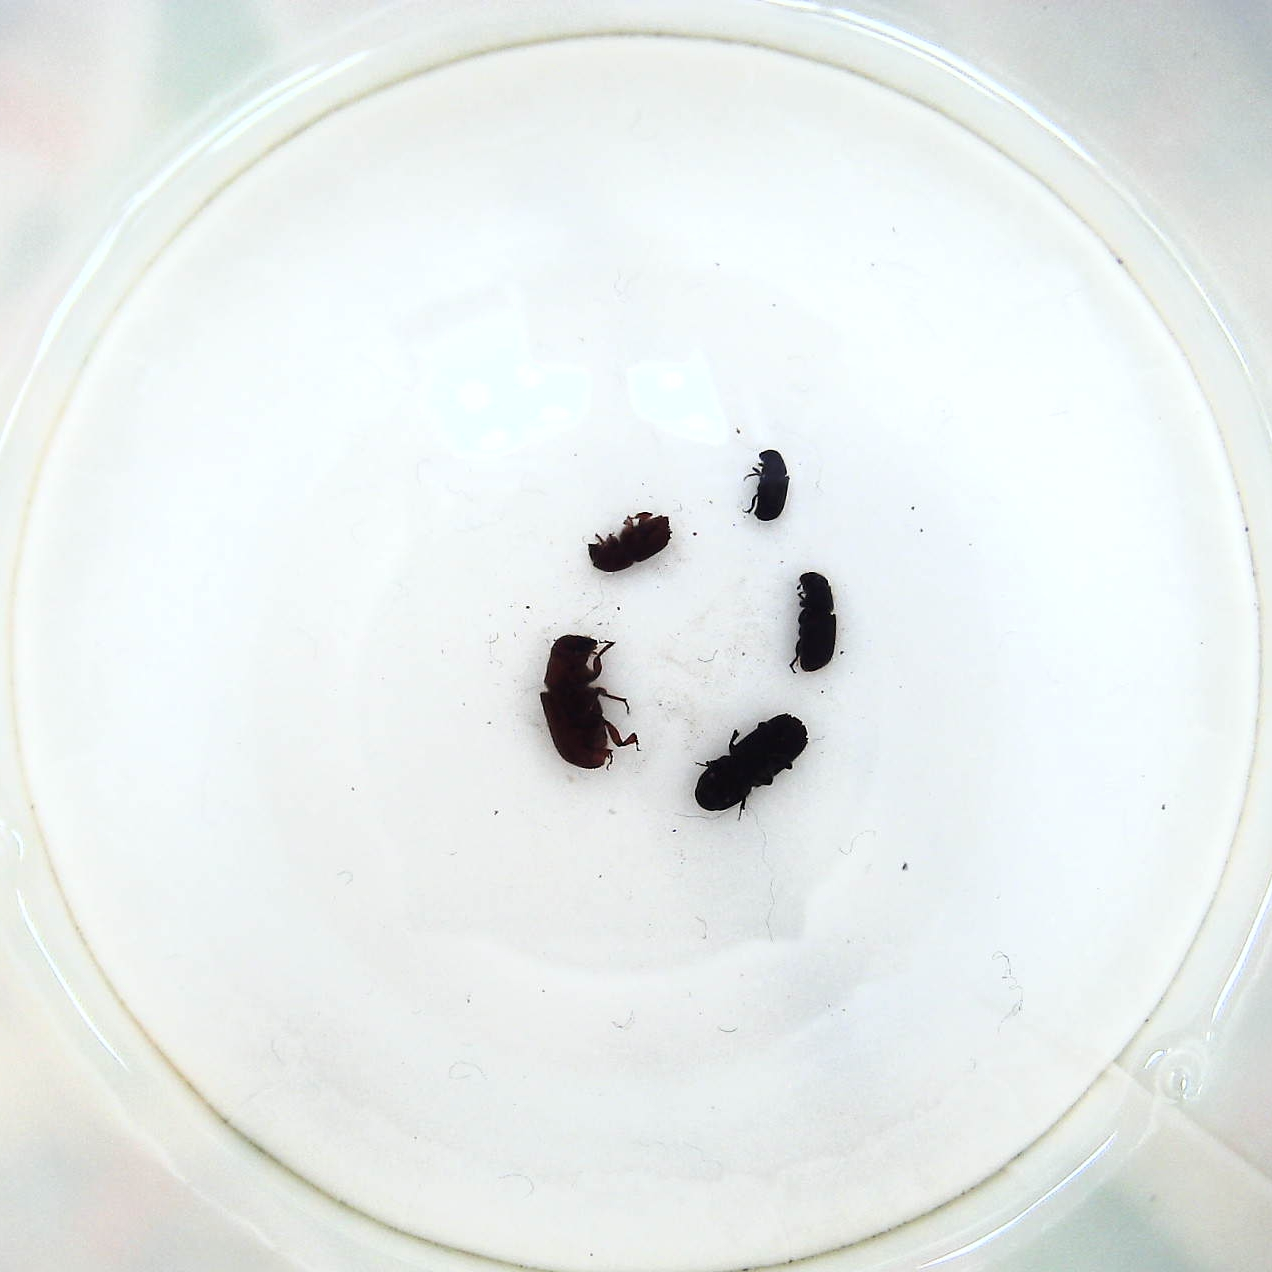Boerner: (690, 712, 817, 819)
Leconte: (540, 629, 641, 775)
armandi: (790, 563, 843, 680)
coleoptera: (748, 444, 794, 529)
linnaeus: (580, 507, 681, 578)
